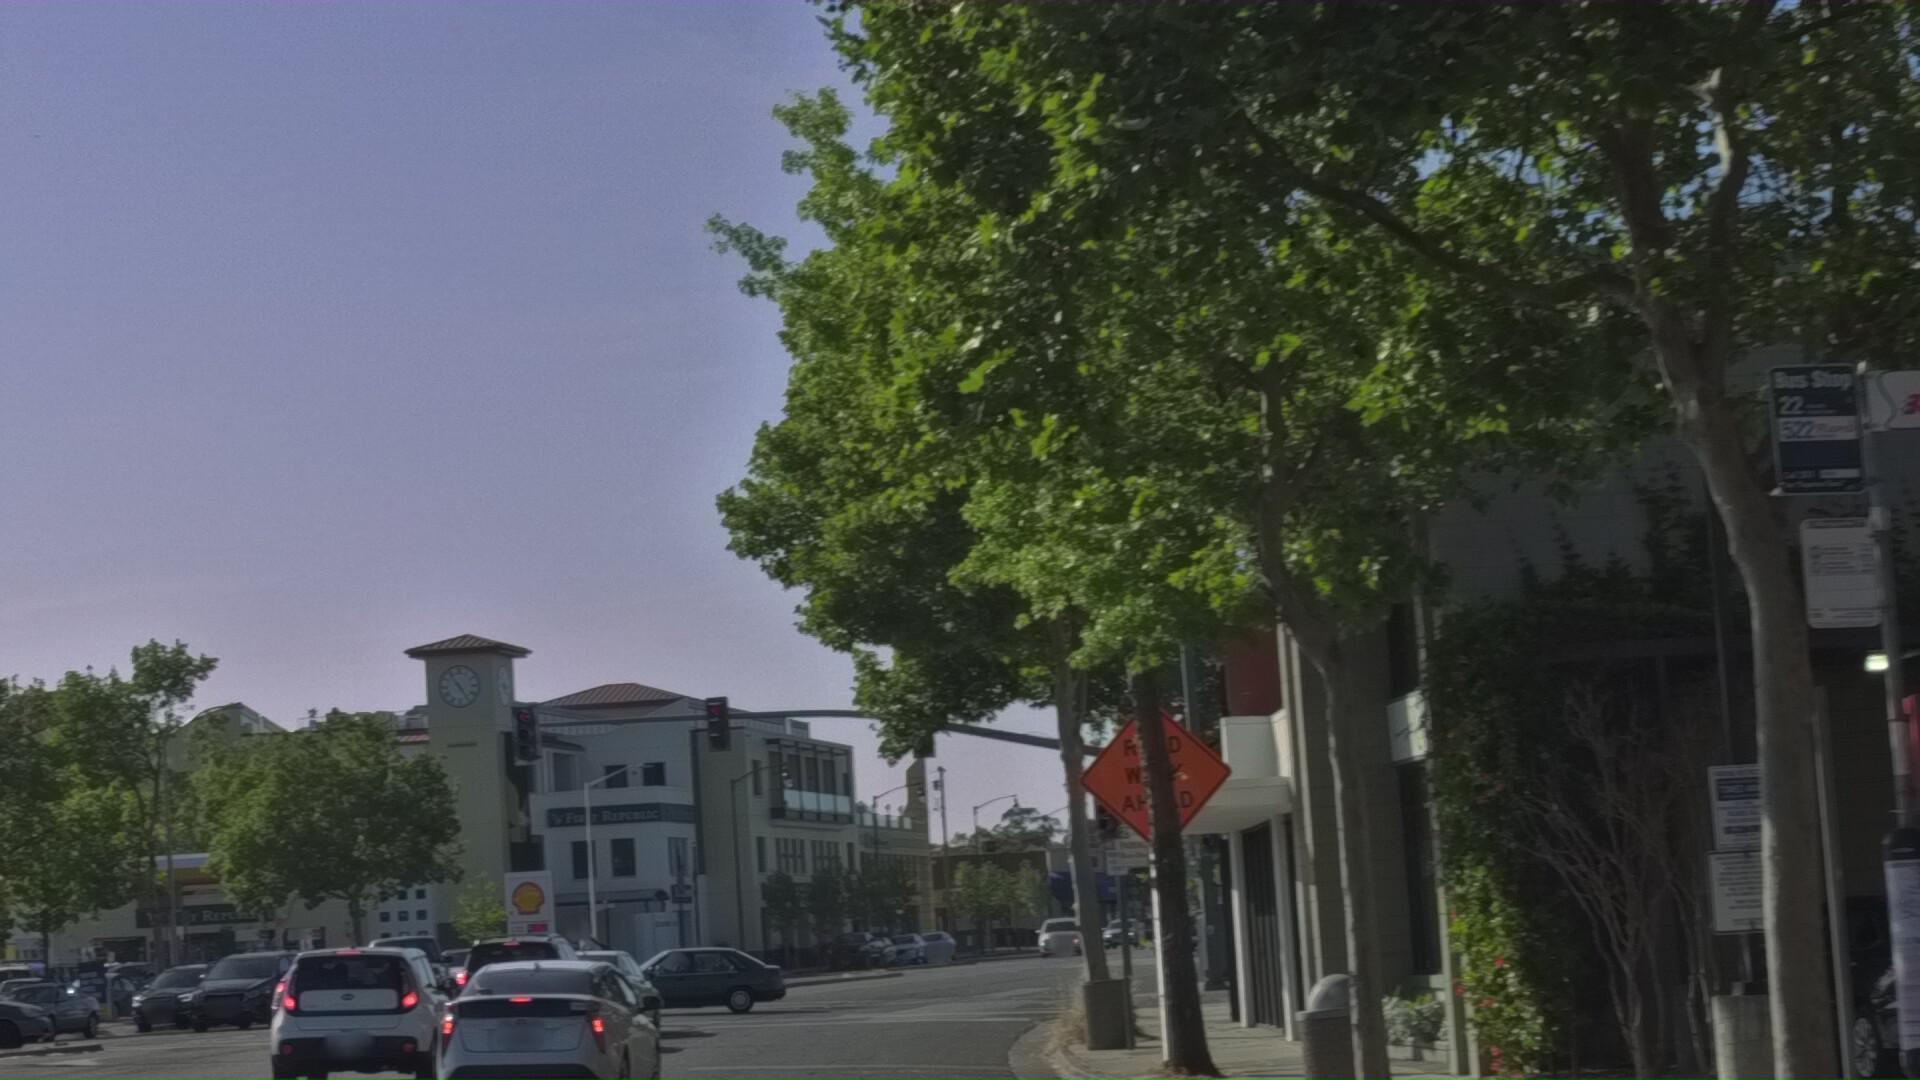bicycle: (549, 1006, 703, 1080)
car: (1772, 955, 1920, 1080), (578, 1029, 836, 1080), (448, 1029, 700, 1080), (274, 1023, 492, 1080), (462, 1023, 636, 1080), (591, 1031, 723, 1080), (0, 1060, 116, 1080), (193, 1068, 348, 1080)
